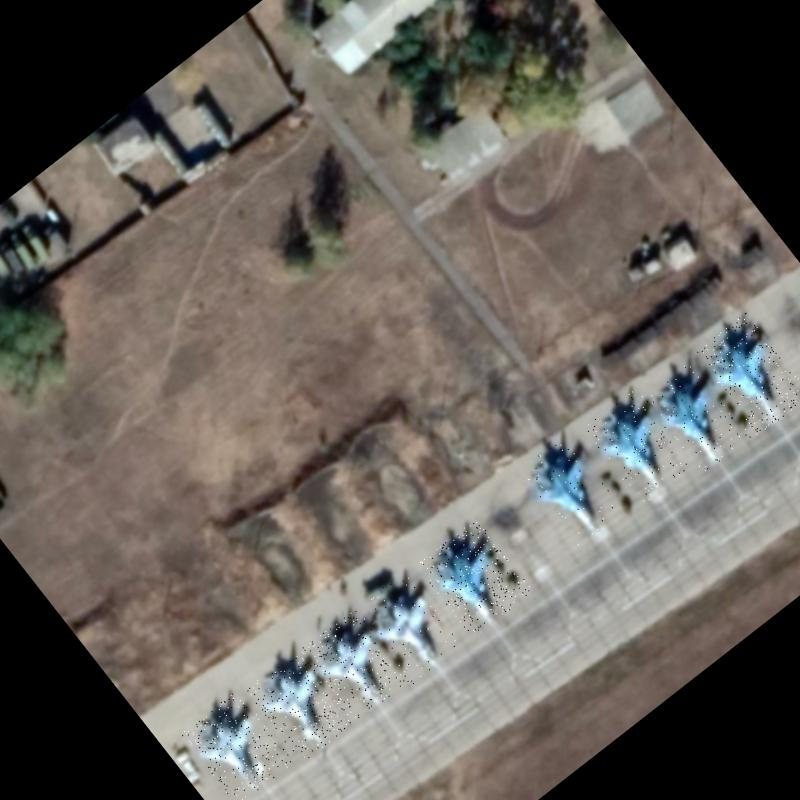A1: (245, 646, 358, 764), (353, 570, 464, 686), (180, 688, 294, 800), (298, 610, 407, 724)
A19: (416, 518, 534, 638), (693, 311, 800, 436), (640, 357, 752, 475), (582, 390, 692, 505), (520, 433, 626, 546)
